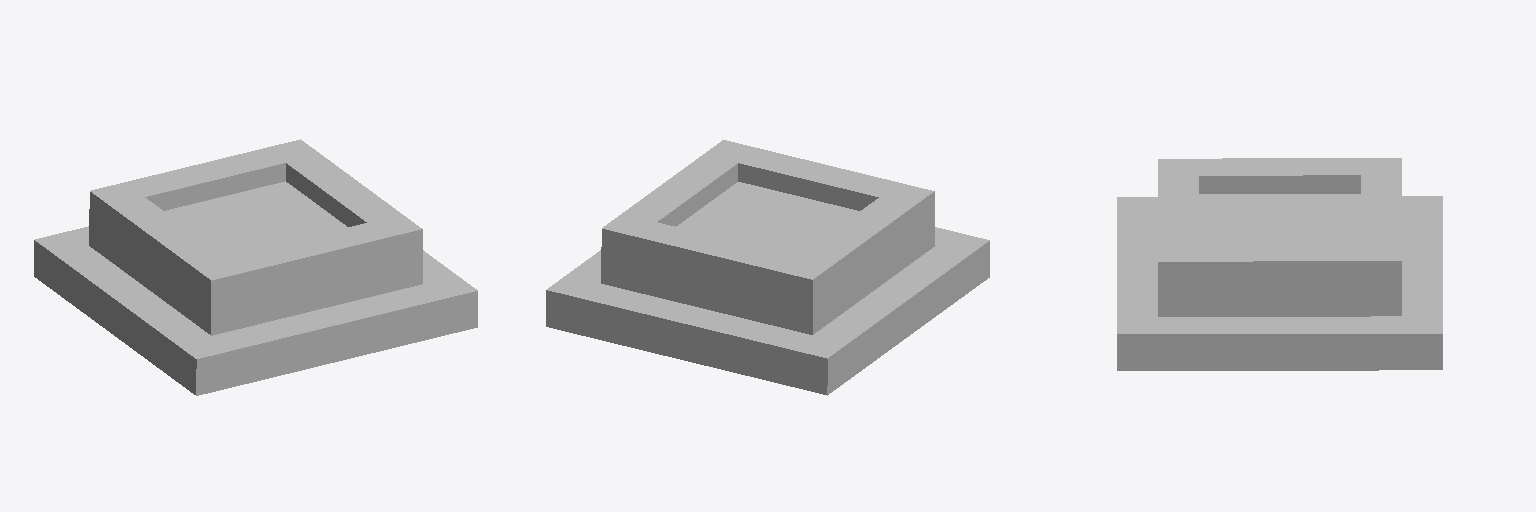
Rendered from triggerobj.obj.
The picture shows the model from 3 angles: view 1: azimuth 30°, elevation 25°; view 2: azimuth 150°, elevation 25°; view 3: azimuth 270°, elevation 25°; orthographic projection.
Visible parts, largest first — view 1: Trigger; view 2: Trigger; view 3: Trigger.
Boxes of the visible parts, x1=… form: Trigger: x1=34, y1=139, x2=477, y2=395; Trigger: x1=546, y1=140, x2=989, y2=395; Trigger: x1=1117, y1=158, x2=1442, y2=370.
Bounding box in the file's own units: 4 × 1.26 × 4.